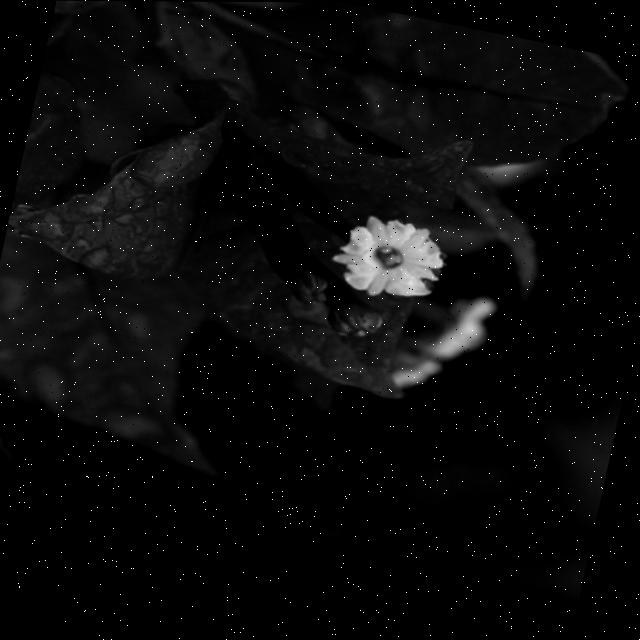bougainvillea: (0, 0, 640, 610)
